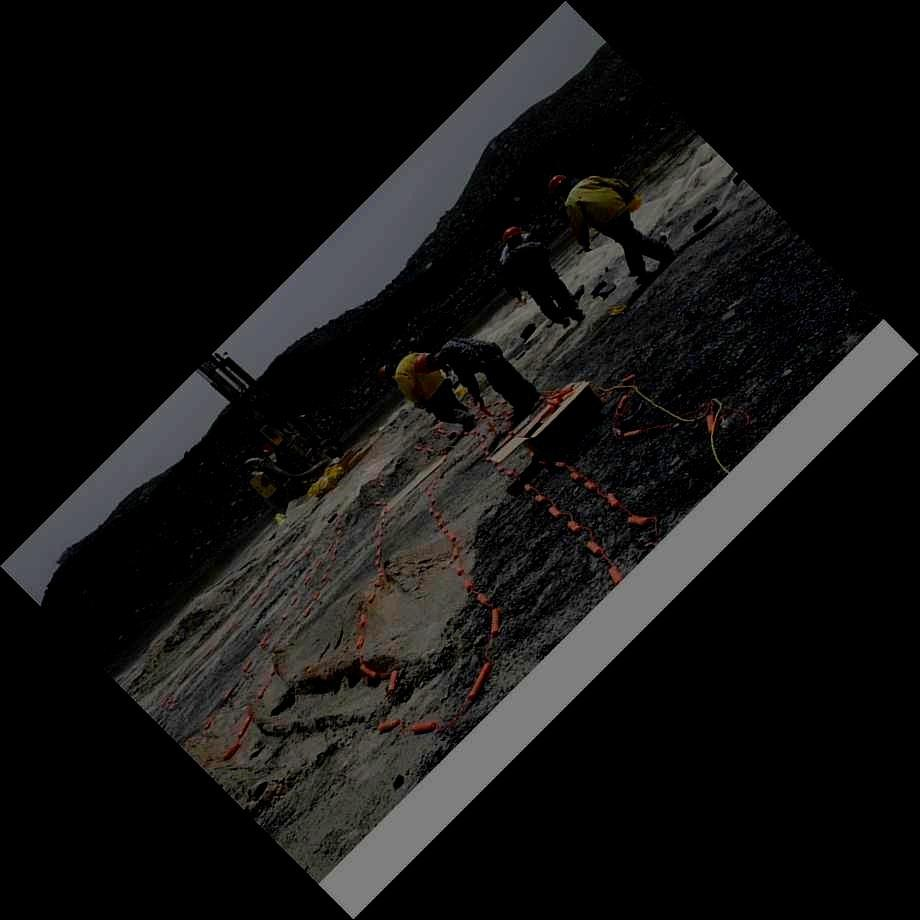helmet: (411, 353, 441, 376), (547, 175, 571, 202), (377, 364, 397, 389), (503, 226, 524, 249)
